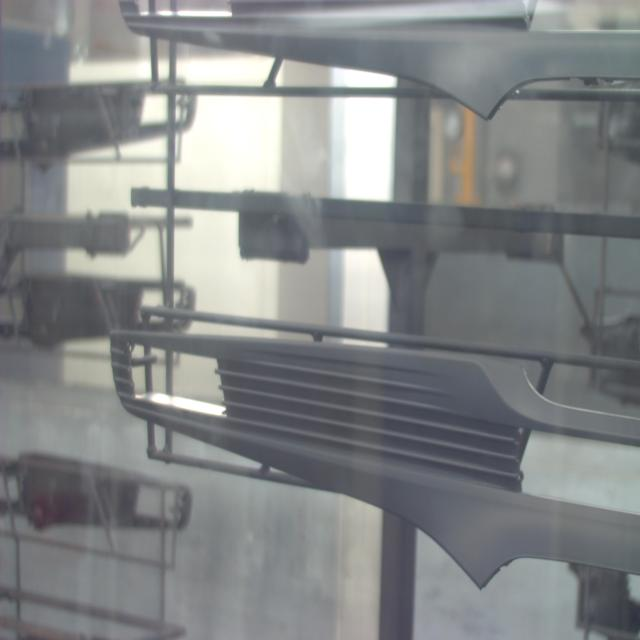Primered: (95, 297, 640, 600), (113, 0, 640, 137)
